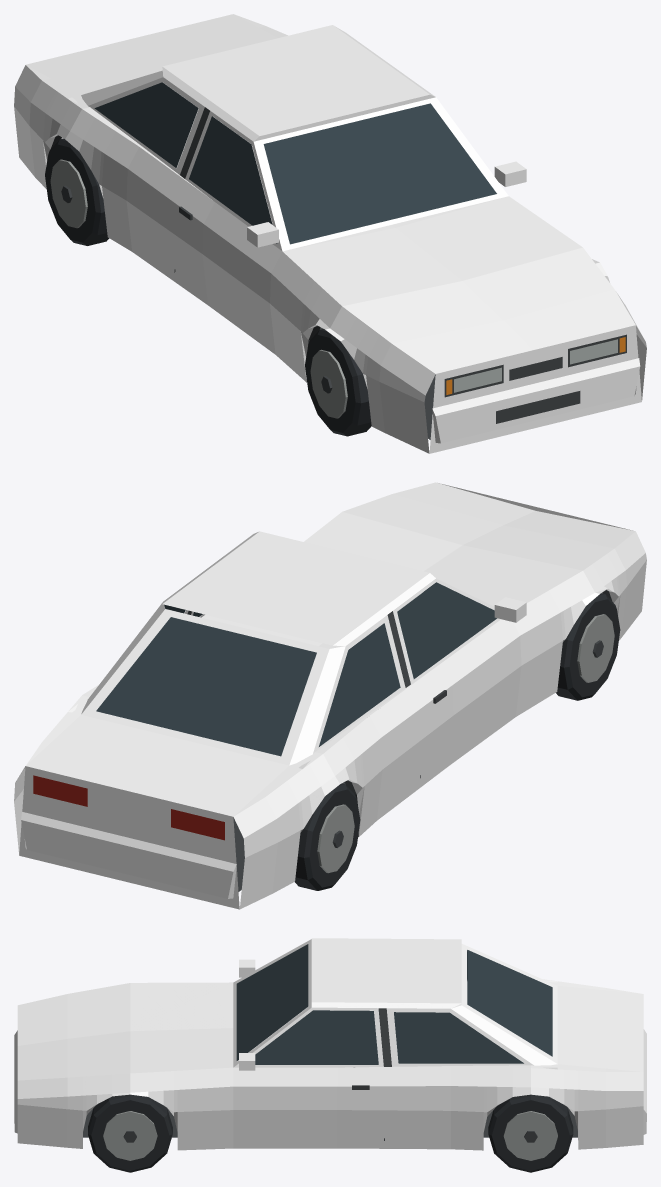
Rendered from hayase_tenku_iv.glb.
3 renders of one model, top to bottom at view 1: azimuth 30°, elevation 25°; view 2: azimuth 150°, elevation 25°; view 3: azimuth 270°, elevation 25°, orthographic. The views are drawn at different scales.
Parts seen in each view (by area): view 1: hayase_tenku_iv; view 2: hayase_tenku_iv; view 3: hayase_tenku_iv.
Part boxes in pixels (box(x1,y1,x2,y2)): hayase_tenku_iv: box(14, 14, 646, 453); hayase_tenku_iv: box(14, 482, 646, 909); hayase_tenku_iv: box(14, 938, 646, 1172).
Size of the model in its own units: 1.8 by 1.25 by 4.66.
8 materials, 1 textured.
